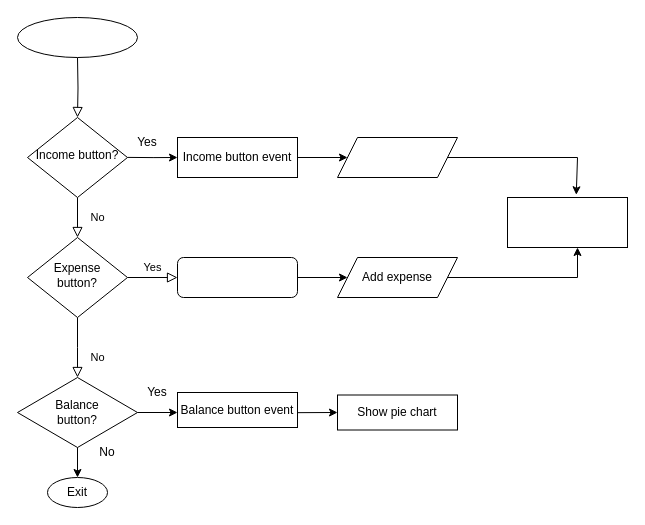
Some shapes in this 645 by 525 pixel diagram are drawn without their labels. The shapes that lost their labels are listed below. From the top down, each one's centre as x and y in pixels, then its label:
At pixel 77 37: "Create Application Window".
At pixel 397 157: "Add income".
At pixel 567 222: "Show transaction table".
At pixel 237 277: "Expense button event".
